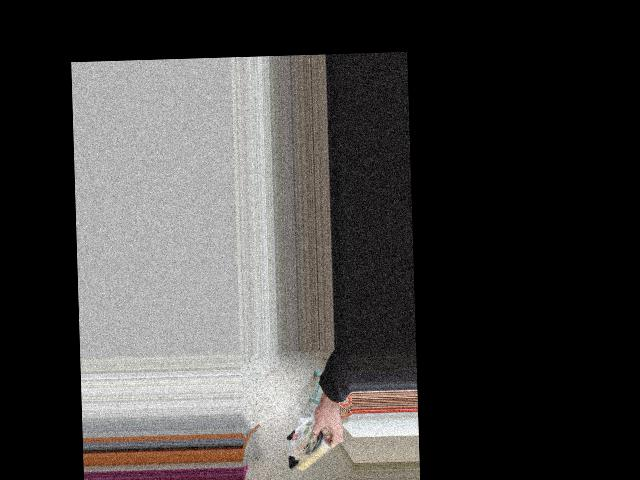cheese: (269, 418, 348, 480)
